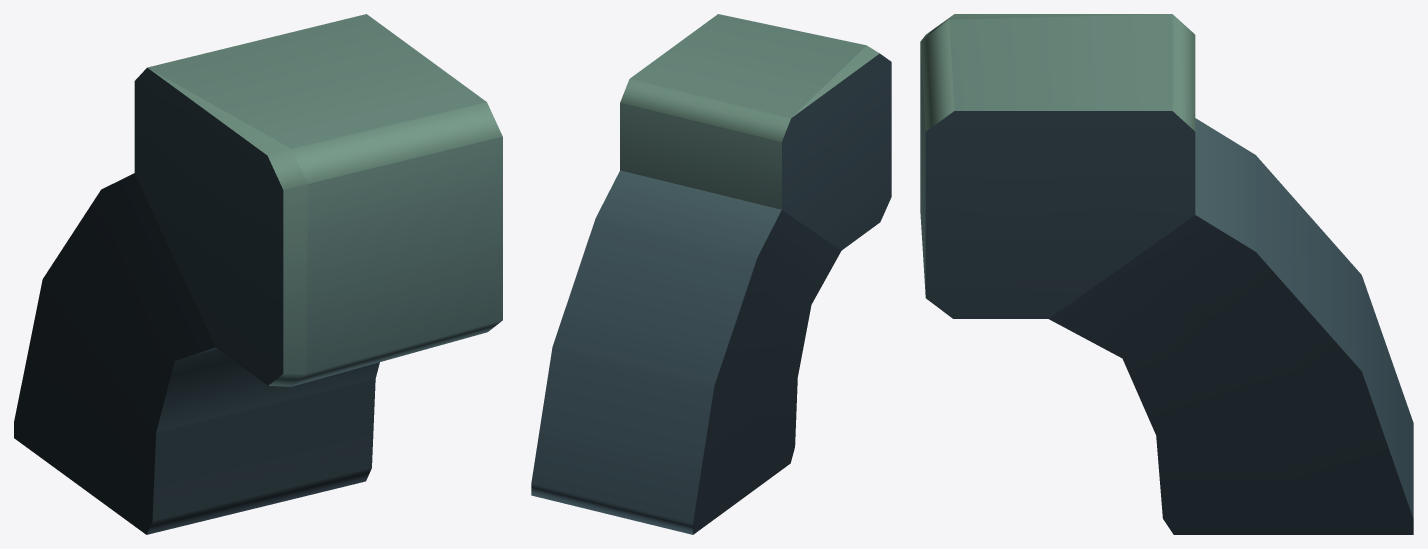
The model's file is wall_element_tileable_1meters_top.fbx.
3 views of the same model, side by side, from view 1: azimuth 30°, elevation 25°; view 2: azimuth 150°, elevation 25°; view 3: azimuth 270°, elevation 25° (orthographic). The views are drawn at different scales.
Parts seen in each view (by area): view 1: wall_element_tileable_1meters_top; view 2: wall_element_tileable_1meters_top; view 3: wall_element_tileable_1meters_top.
Part boxes in pixels (x1,y1,x2,y2): wall_element_tileable_1meters_top: (14, 14, 502, 534); wall_element_tileable_1meters_top: (531, 14, 891, 534); wall_element_tileable_1meters_top: (920, 14, 1413, 534).
Size of the model in its own units: 100 by 205 by 215.
